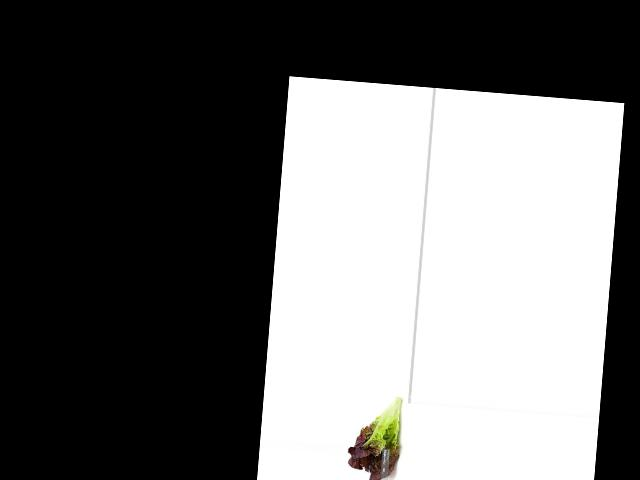lettuce: (345, 390, 408, 480)
